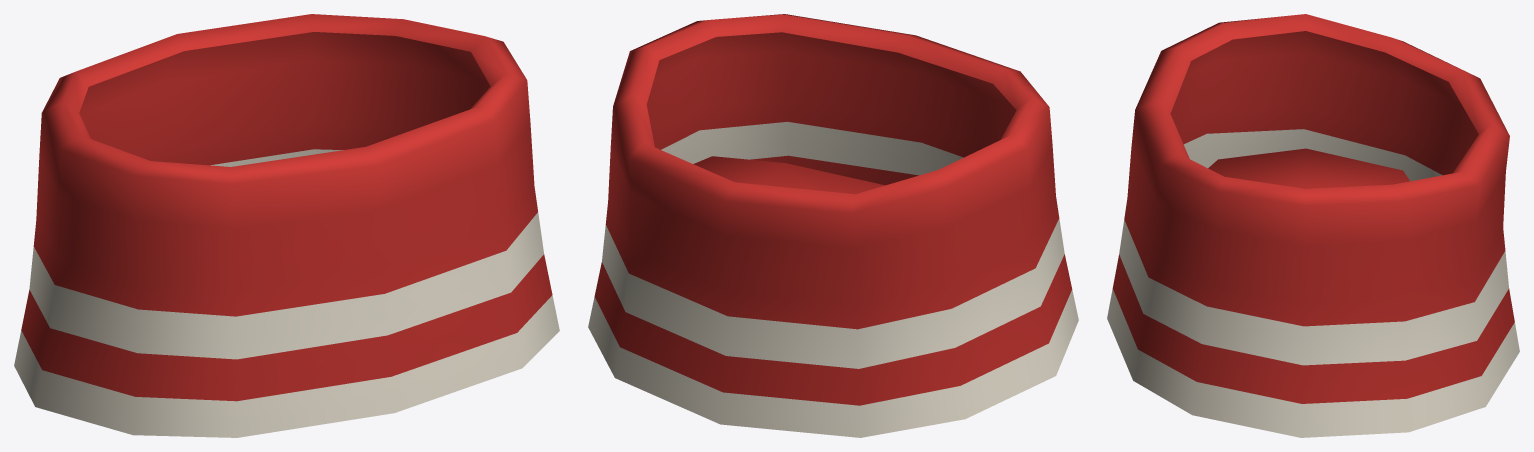
Rendered from Bottom_29.fbx.
3 renders of one model, left to right at view 1: azimuth 30°, elevation 25°; view 2: azimuth 150°, elevation 25°; view 3: azimuth 270°, elevation 25°, orthographic. The views are drawn at different scales.
Parts seen in each view (by area): view 1: Bottom_29; view 2: Bottom_29; view 3: Bottom_29.
Boxes of the visible parts, bbox=[...] form: Bottom_29: bbox=[14, 14, 559, 437]; Bottom_29: bbox=[588, 14, 1078, 437]; Bottom_29: bbox=[1107, 14, 1519, 437].
Bounding box in the file's own units: 43.31 × 23.57 × 35.06.
